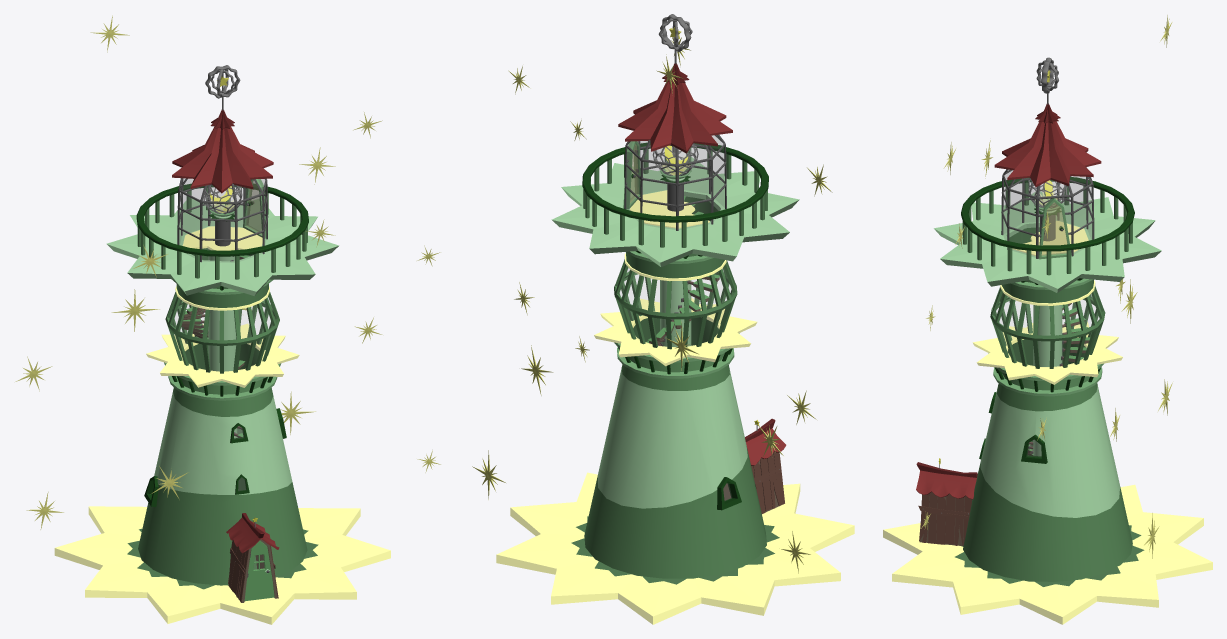
Rendered from lighthouse.glb.
The picture shows the model from 3 angles, left to right: view 1: azimuth 30°, elevation 25°; view 2: azimuth 150°, elevation 25°; view 3: azimuth 270°, elevation 25°; orthographic projection. The views are drawn at different scales.
Parts seen in each view (by area): view 1: pCylinder44, pCylinder13, pCylinder24, pSphere3, pCylinder31, pCylinder10, pCylinder4, pCylinder36, pCylinder37, pSphere1, pCylinder35, pasted__pPlane3 (+5 smaller); view 2: pCylinder44, pCylinder13, pCylinder24, pSphere3, pCylinder31, pCylinder10, pCylinder4, pCylinder36, pCylinder37, pSphere1, pCylinder16, pSphere4 (+7 smaller); view 3: pCylinder44, pCylinder13, pCylinder24, pCylinder31, pCylinder10, pSphere3, pCylinder4, pCylinder36, pCylinder37, pSphere1, pCylinder16, pCylinder35 (+6 smaller).
Boxes of the visible parts, x1=… form: pCylinder44: x1=138, y1=343, x2=307, y2=585; pCylinder13: x1=54, y1=506, x2=390, y2=624; pCylinder24: x1=106, y1=198, x2=338, y2=295; pSphere3: x1=179, y1=178, x2=266, y2=262; pCylinder31: x1=165, y1=292, x2=279, y2=373; pCylinder10: x1=172, y1=126, x2=273, y2=193; pCylinder4: x1=146, y1=323, x2=299, y2=387; pCylinder36: x1=137, y1=187, x2=307, y2=279; pCylinder37: x1=136, y1=183, x2=308, y2=256; pSphere1: x1=177, y1=178, x2=268, y2=262; pCylinder35: x1=208, y1=249, x2=237, y2=438; pasted__pPlane3: x1=244, y1=540, x2=274, y2=601; pCylinder44: x1=584, y1=317, x2=766, y2=578; pCylinder13: x1=496, y1=472, x2=854, y2=624; pCylinder24: x1=551, y1=157, x2=799, y2=267; pSphere3: x1=626, y1=135, x2=724, y2=229; pCylinder31: x1=614, y1=259, x2=737, y2=349; pCylinder10: x1=618, y1=82, x2=732, y2=153; pCylinder4: x1=594, y1=298, x2=757, y2=366; pCylinder36: x1=583, y1=148, x2=767, y2=247; pCylinder37: x1=582, y1=142, x2=768, y2=222; pSphere1: x1=624, y1=134, x2=726, y2=230; pCylinder16: x1=626, y1=196, x2=724, y2=278; pSphere4: x1=630, y1=190, x2=709, y2=228; pCylinder44: x1=963, y1=339, x2=1132, y2=581; pCylinder13: x1=883, y1=484, x2=1212, y2=624; pCylinder24: x1=934, y1=191, x2=1161, y2=292; pCylinder31: x1=990, y1=286, x2=1105, y2=368; pCylinder10: x1=994, y1=121, x2=1101, y2=187; pSphere3: x1=1003, y1=170, x2=1091, y2=257; pCylinder4: x1=972, y1=322, x2=1122, y2=384; pCylinder36: x1=962, y1=182, x2=1132, y2=275; pCylinder37: x1=961, y1=177, x2=1134, y2=251; pSphere1: x1=1001, y1=167, x2=1094, y2=258; pCylinder16: x1=1001, y1=227, x2=1093, y2=303; pCylinder35: x1=1033, y1=305, x2=1062, y2=456.
Size of the model in its own units: 0.6468 by 0.9639 by 0.5595.
